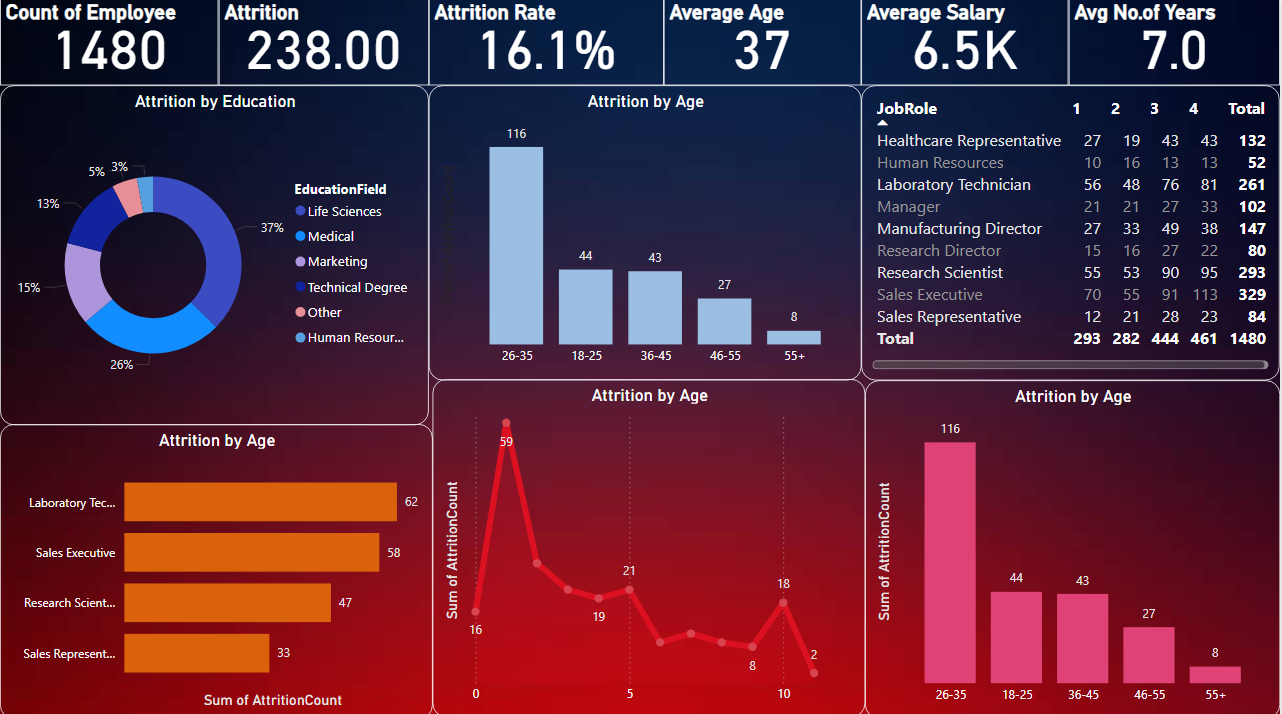

What the dashboard file says about the page in this screenshot:
{"tool":"powerbi","page":{"name":"Page 1","canvas":[1280,720],"ordinal":0},"visuals":[{"type":"card","title":"Count of Employee","fields":{"Values":["CountNonNull(HR_Analytics.EmployeeCount)"]},"box":[0,0,218.8,86.2],"z":0},{"type":"card","title":"Attrition","fields":{"Values":["Sum(HR_Analytics.AttritionCount)"]},"box":[218.8,0,210,86.2],"z":1000},{"type":"card","title":"Attrition Rate","fields":{"Values":["HR_Analytics.AttritionRate"]},"box":[428.8,0,235,86.2],"z":2000},{"type":"card","title":"Average Age","fields":{"Values":["Avg(HR_Analytics.Age)"]},"box":[663.8,0,197.5,86.2],"z":3000},{"type":"card","title":"Avg No.of Years","fields":{"Values":["Avg(HR_Analytics.YearsAtCompany)"]},"box":[1068.8,0,211.2,86.2],"z":4000},{"type":"card","title":"Average Salary","fields":{"Values":["Avg(HR_Analytics.MonthlyIncome)"]},"box":[861.2,0,207.5,86.2],"z":5000},{"type":"donutChart","title":"Attrition by Education","fields":{"Category":["HR_Analytics.EducationField"],"Y":["Sum(HR_Analytics.AttritionCount)"]},"box":[0,86.2,428.8,340],"z":6000},{"type":"columnChart","title":"Attrition by Age","fields":{"Category":["HR_Analytics.AgeGroup"],"Y":["Sum(HR_Analytics.AttritionCount)"]},"box":[428.8,86.2,432.5,295],"z":7000},{"type":"pivotTable","fields":{"Rows":["HR_Analytics.JobRole"],"Columns":["HR_Analytics.JobSatisfaction"],"Values":["CountNonNull(HR_Analytics.AttritionCount)"]},"box":[861.2,86.2,418.8,295],"z":8000},{"type":"barChart","title":"Attrition by Age","fields":{"Y":["Sum(HR_Analytics.AttritionCount)"],"Category":["HR_Analytics.JobRole"]},"box":[0,425,432.5,295],"z":9000},{"type":"areaChart","title":"Attrition by Age","fields":{"Category":["HR_Analytics.YearsAtCompany"],"Y":["Sum(HR_Analytics.AttritionCount)"]},"box":[431.9,380.4,433.1,338.7],"z":10000},{"type":"columnChart","title":"Attrition by Age","fields":{"Category":["HR_Analytics.AgeGroup"],"Y":["Sum(HR_Analytics.AttritionCount)"]},"box":[865,381.2,415,338.8],"z":11000}]}

Visuals, with their boxes in screenshot pixels (x1, y1, x2, y2), scaled from the page's 1280x720 canvas onto the 1282x714 screenshot:
"Count of Employee" card: [0,0,219,85]
"Attrition" card: [219,0,429,85]
"Attrition Rate" card: [429,0,665,85]
"Average Age" card: [665,0,863,85]
"Avg No.of Years" card: [1070,0,1281,85]
"Average Salary" card: [863,0,1070,85]
"Attrition by Education" donutChart: [0,85,429,423]
"Attrition by Age" columnChart: [429,85,863,378]
pivotTable - HR_Analytics.JobRole x HR_Analytics.JobSatisfaction: [863,85,1281,378]
"Attrition by Age" barChart: [0,421,433,713]
"Attrition by Age" areaChart: [433,377,866,713]
"Attrition by Age" columnChart: [866,378,1281,713]
